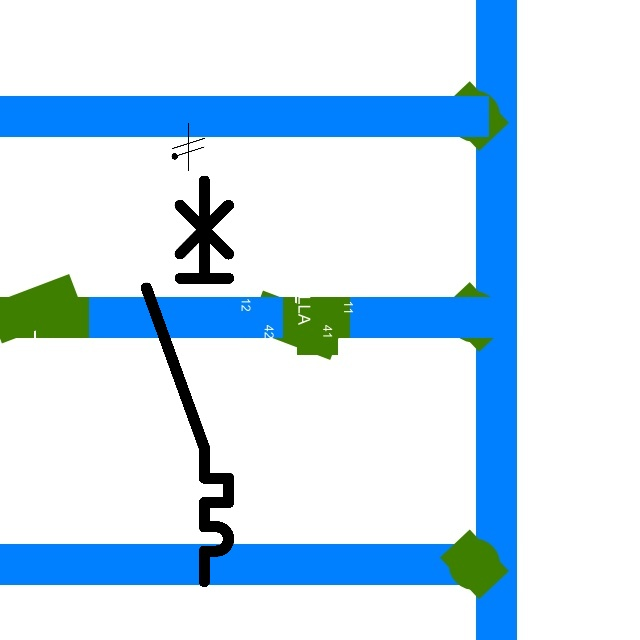interruptor_termomagnetico: (136, 170, 239, 591)
